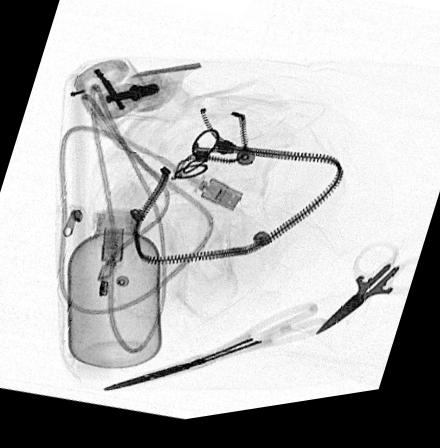Scissors: (98, 308, 335, 398), (312, 249, 419, 350)
